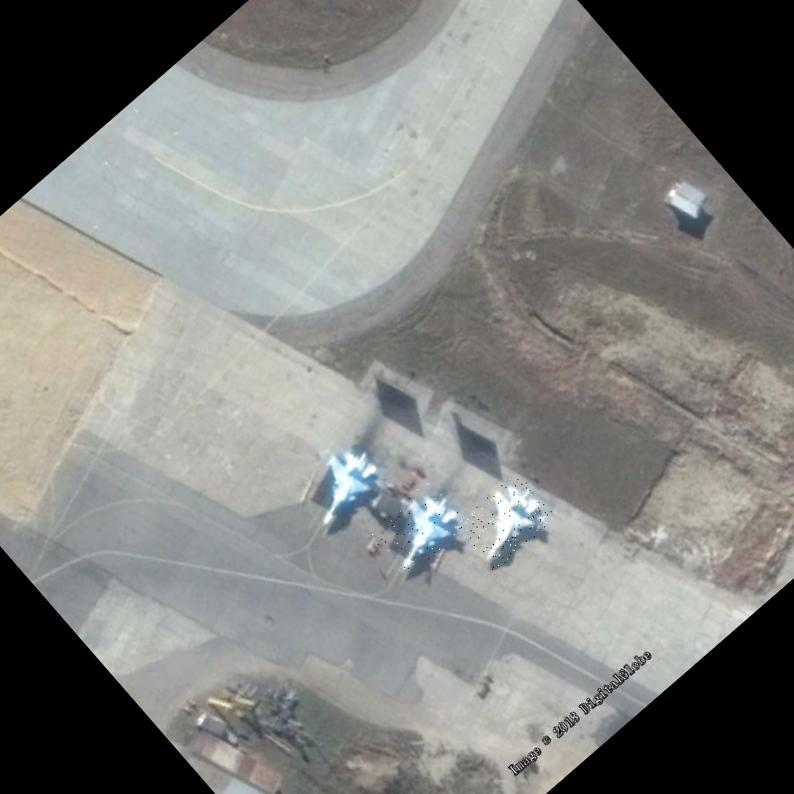A19: (366, 476, 471, 578), (454, 472, 558, 572), (290, 433, 392, 534)
